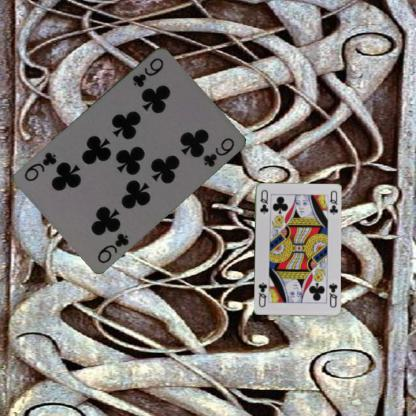9c: (94, 230, 131, 265), (130, 54, 166, 88)
Qc: (326, 280, 338, 309), (257, 188, 269, 214)
